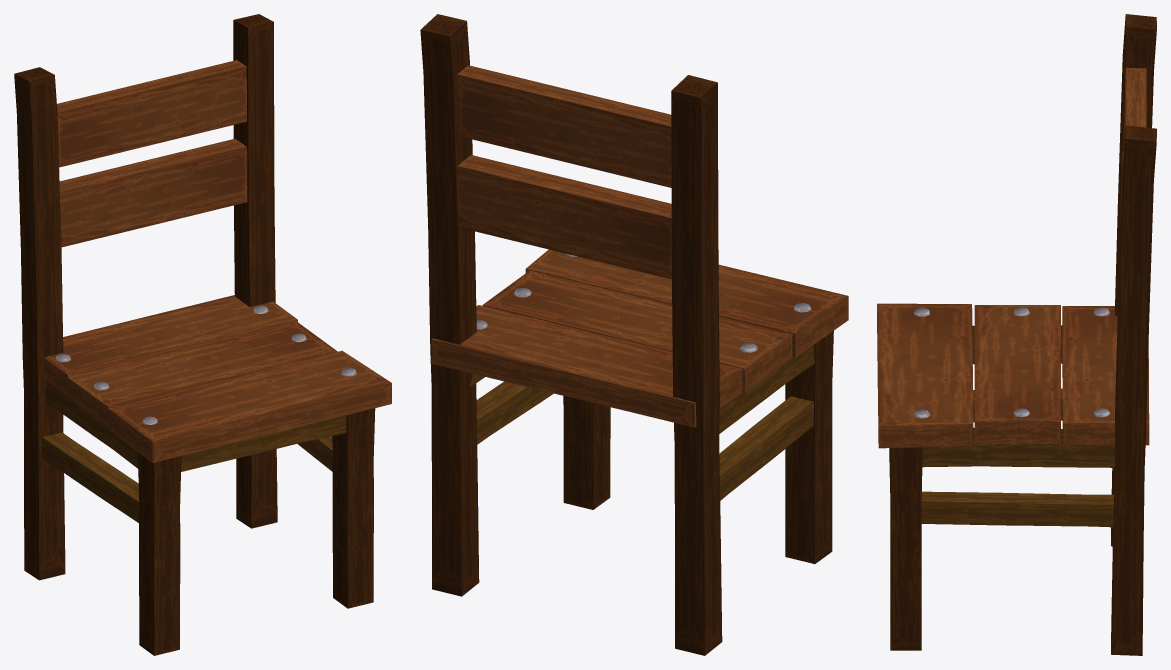
The model's file is quaternius-fantasy-props-chair-1.glb.
The picture shows the model from 3 angles, left to right: view 1: azimuth 30°, elevation 25°; view 2: azimuth 150°, elevation 25°; view 3: azimuth 270°, elevation 25°; orthographic projection. The views are drawn at different scales.
Visible parts, largest first — view 1: Chair_1; view 2: Chair_1; view 3: Chair_1.
Boxes of the visible parts, x1,y1,x2,y2 form: Chair_1: [14, 14, 391, 655]; Chair_1: [420, 14, 848, 655]; Chair_1: [877, 14, 1156, 655].
Size of the model in its own units: 0.5805 by 1.12 by 0.5489.
Materials: 2 (2 with a texture image).
